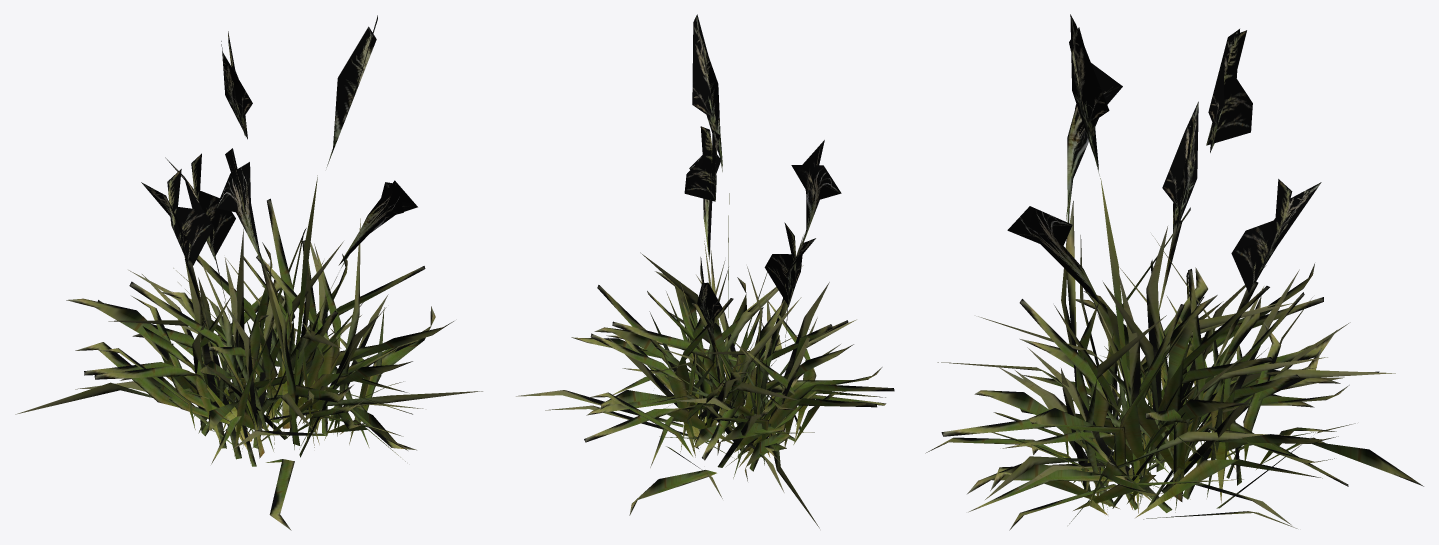
File: SM_Grass_04.gltf
The picture shows the model from 3 angles, left to right: view 1: azimuth 30°, elevation 25°; view 2: azimuth 150°, elevation 25°; view 3: azimuth 270°, elevation 25°; orthographic projection. The views are drawn at different scales.
Parts seen in each view (by area): view 1: SM_Grass_04; view 2: SM_Grass_04; view 3: SM_Grass_04.
Part boxes in pixels (x1=…): SM_Grass_04: x1=15, y1=15, x2=482, y2=530; SM_Grass_04: x1=516, y1=14, x2=894, y2=528; SM_Grass_04: x1=925, y1=14, x2=1423, y2=530.
Size of the model in its own units: 0.1706 by 0.1996 by 0.1721.
Materials: 1 (1 with a texture image).
